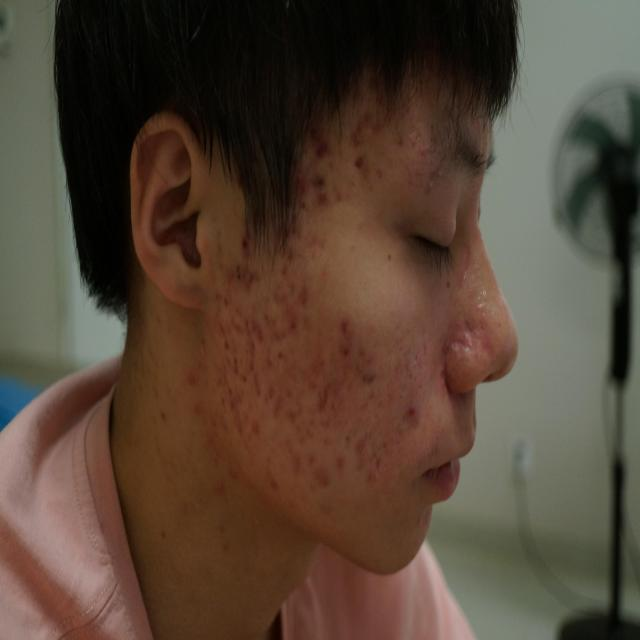Acne: (206, 241, 312, 483), (318, 314, 420, 486), (342, 123, 379, 199), (310, 132, 338, 208)
